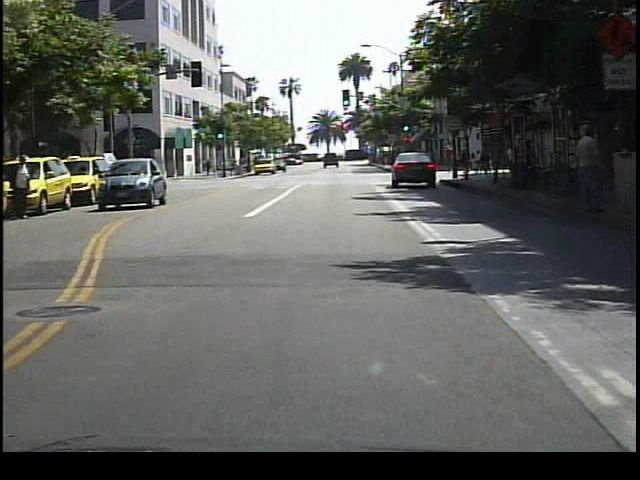person: (572, 123, 607, 221), (14, 149, 43, 224)
